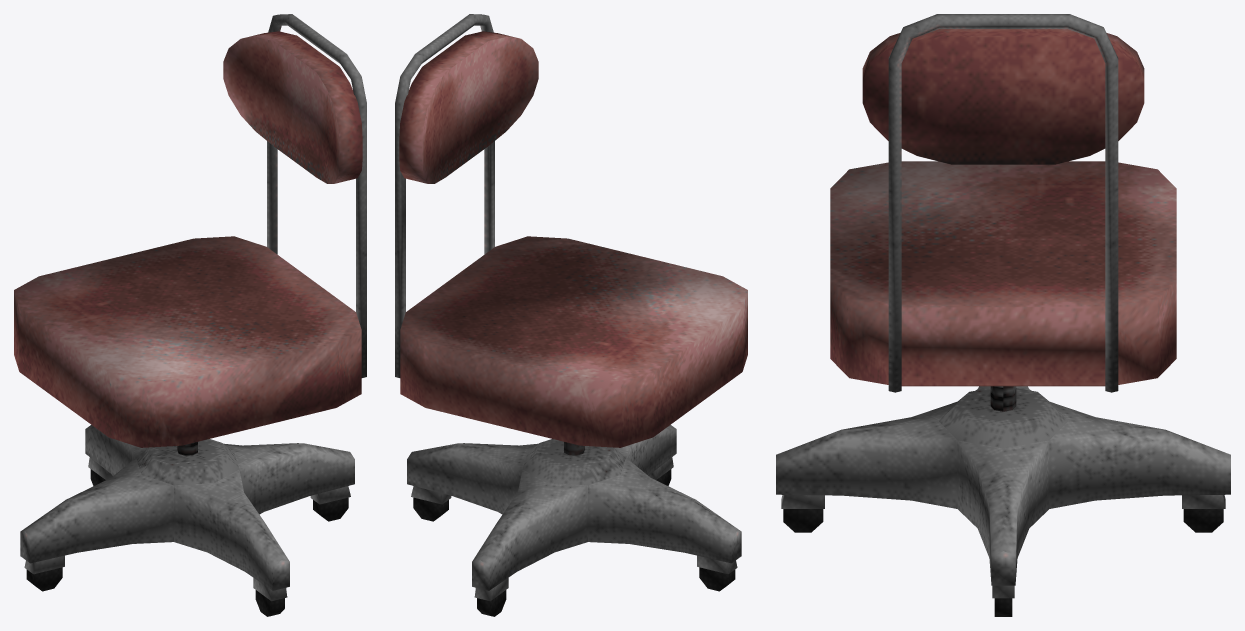
Rendered from เกาอี้2.fbx.
3 renders of one model, left to right at view 1: azimuth 30°, elevation 25°; view 2: azimuth 150°, elevation 25°; view 3: azimuth 270°, elevation 25°, orthographic. The views are drawn at different scales.
Parts seen in each view (by area): view 1: chair02; view 2: chair02; view 3: chair02.
Boxes of the visible parts, left/top/right/bottom form: chair02: left=14, top=14, right=366, bottom=616; chair02: left=395, top=14, right=747, bottom=616; chair02: left=776, top=14, right=1230, bottom=616.
Size of the model in its own units: 84 by 120 by 84.
